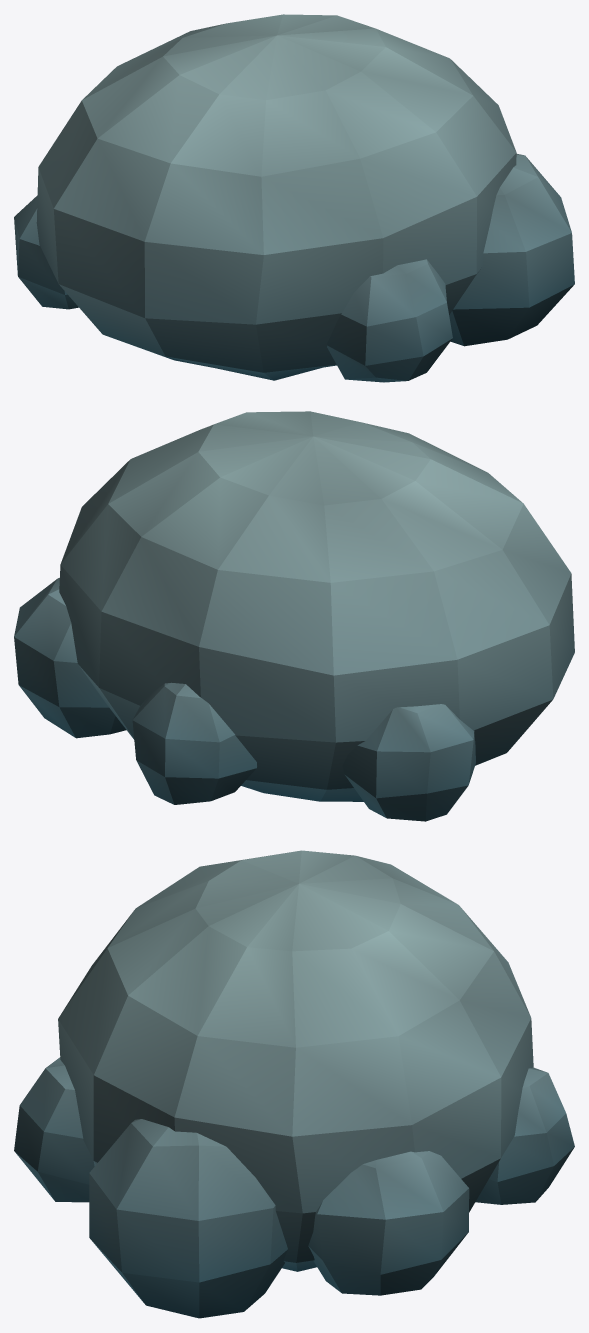
Rendered from prop_boulder_large.glb.
3 views of the same model, one above another, from view 1: azimuth 30°, elevation 25°; view 2: azimuth 150°, elevation 25°; view 3: azimuth 270°, elevation 25° (orthographic). The views are drawn at different scales.
Parts seen in each view (by area): view 1: prop_boulder_large_stone; view 2: prop_boulder_large_stone; view 3: prop_boulder_large_stone.
Boxes of the visible parts, left/top/right/bottom form: prop_boulder_large_stone: left=14, top=14, right=574, bottom=382; prop_boulder_large_stone: left=14, top=411, right=574, bottom=821; prop_boulder_large_stone: left=14, top=850, right=574, bottom=1318.
Size of the model in its own units: 4.36 by 2.81 by 4.11.
